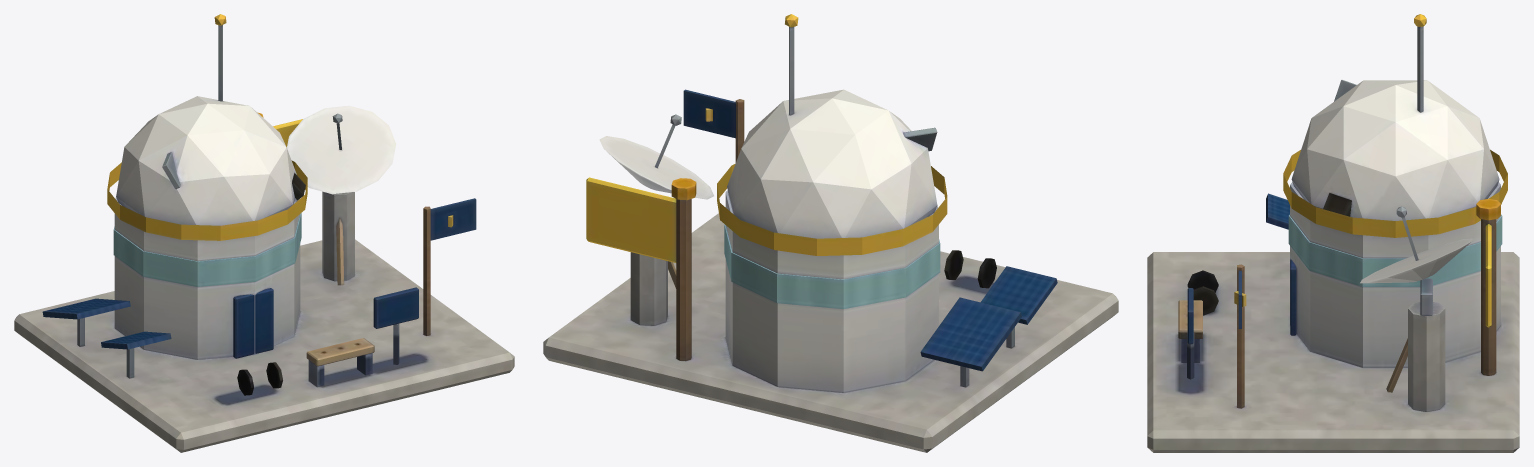
The model's file is observatory-30.glb.
3 renders of one model, left to right at view 1: azimuth 30°, elevation 25°; view 2: azimuth 150°, elevation 25°; view 3: azimuth 270°, elevation 25°, orthographic. The views are drawn at different scales.
Parts seen in each view (by area): view 1: observatory-30; view 2: observatory-30; view 3: observatory-30.
Part boxes in pixels (left/top/right/bottom): observatory-30: left=14, top=14, right=514, bottom=452; observatory-30: left=543, top=14, right=1118, bottom=452; observatory-30: left=1147, top=14, right=1519, bottom=452.
Size of the model in its own units: 1.43 by 1.23 by 1.2.
1 material, 1 textured.
